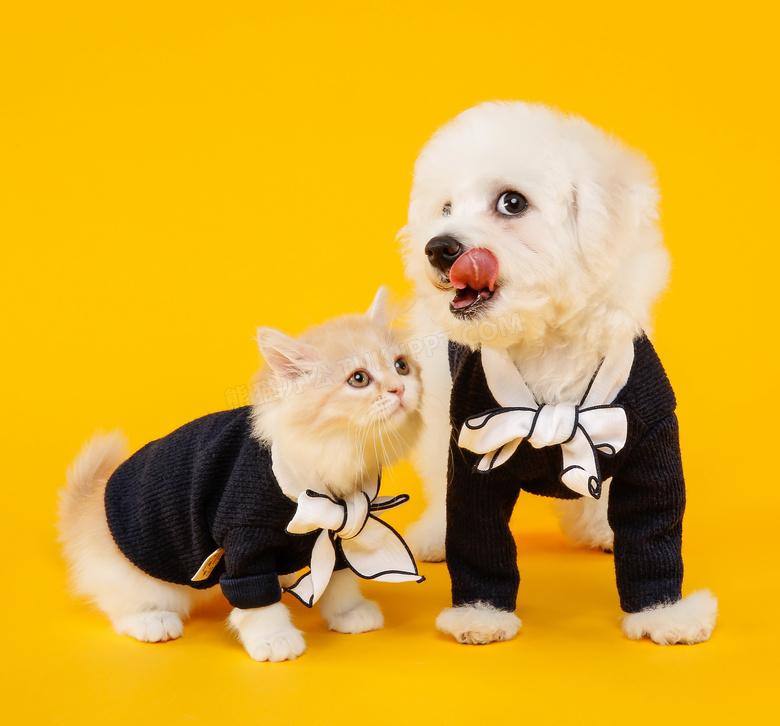cat: (58, 322, 423, 649)
dog: (412, 115, 733, 661)
